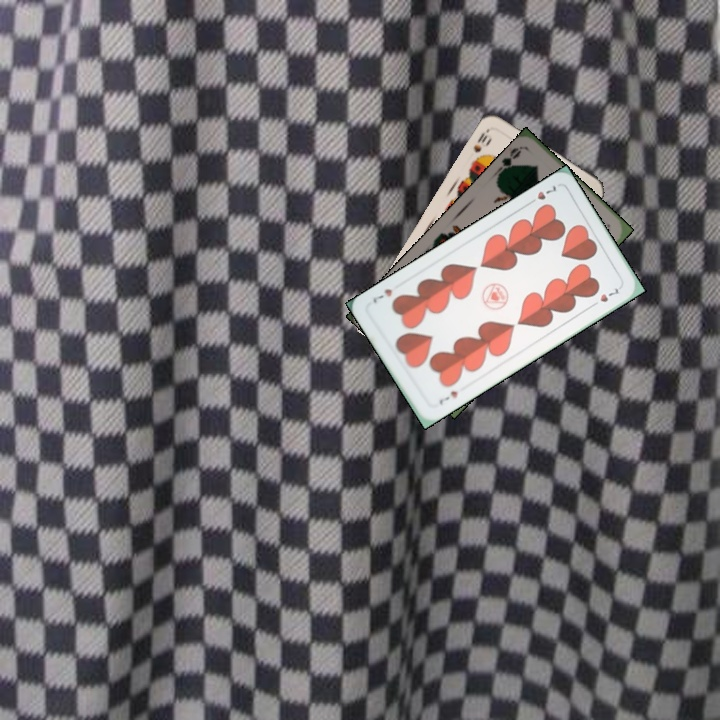GO: (491, 144, 524, 179)
H7: (524, 181, 560, 207), (435, 386, 460, 407)
S10: (469, 128, 490, 155)
